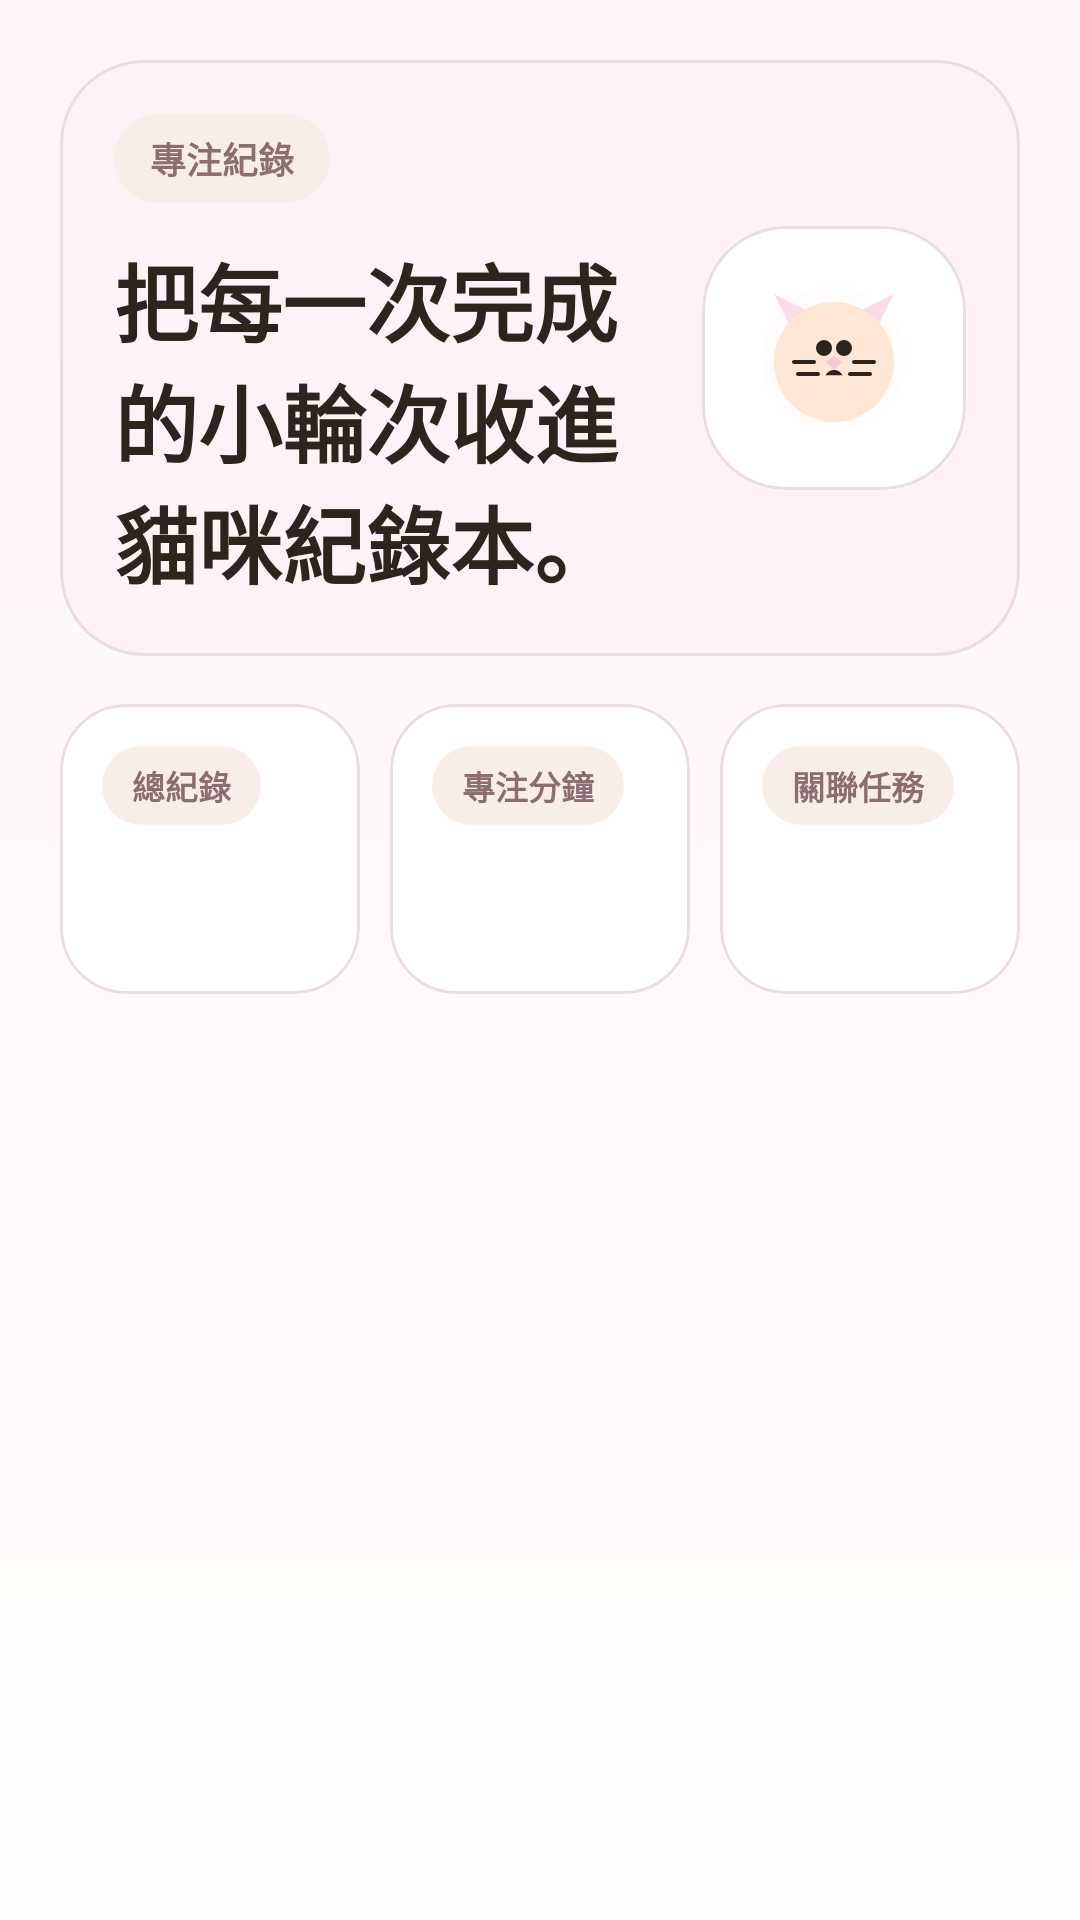

Locate icon controls on the screen. Image size 1080 x 1920, boxes as region(x1, y1, x2, y2).
cat mascot: region(774, 302, 894, 422)
